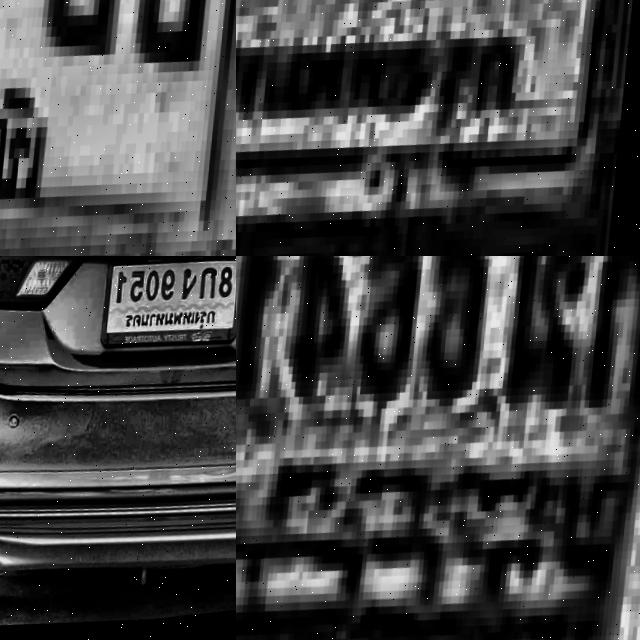license-plate: (236, 256, 640, 640), (236, 0, 640, 256), (0, 0, 236, 256), (100, 256, 236, 362)
